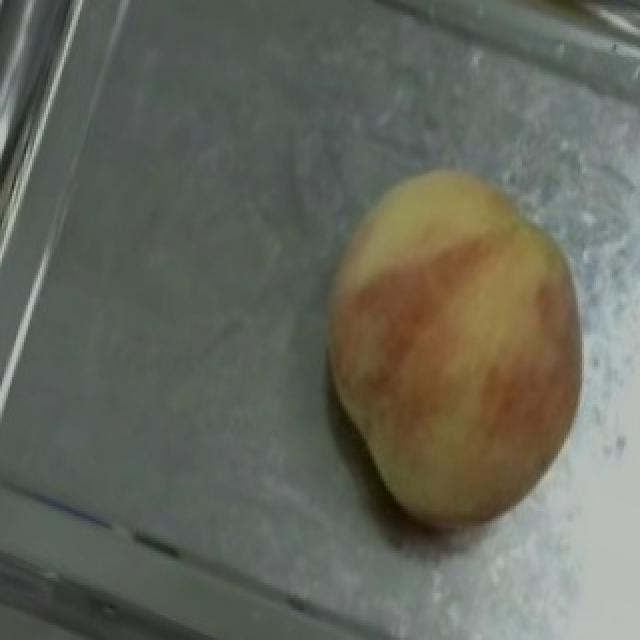Fruit: (284, 134, 618, 504)
